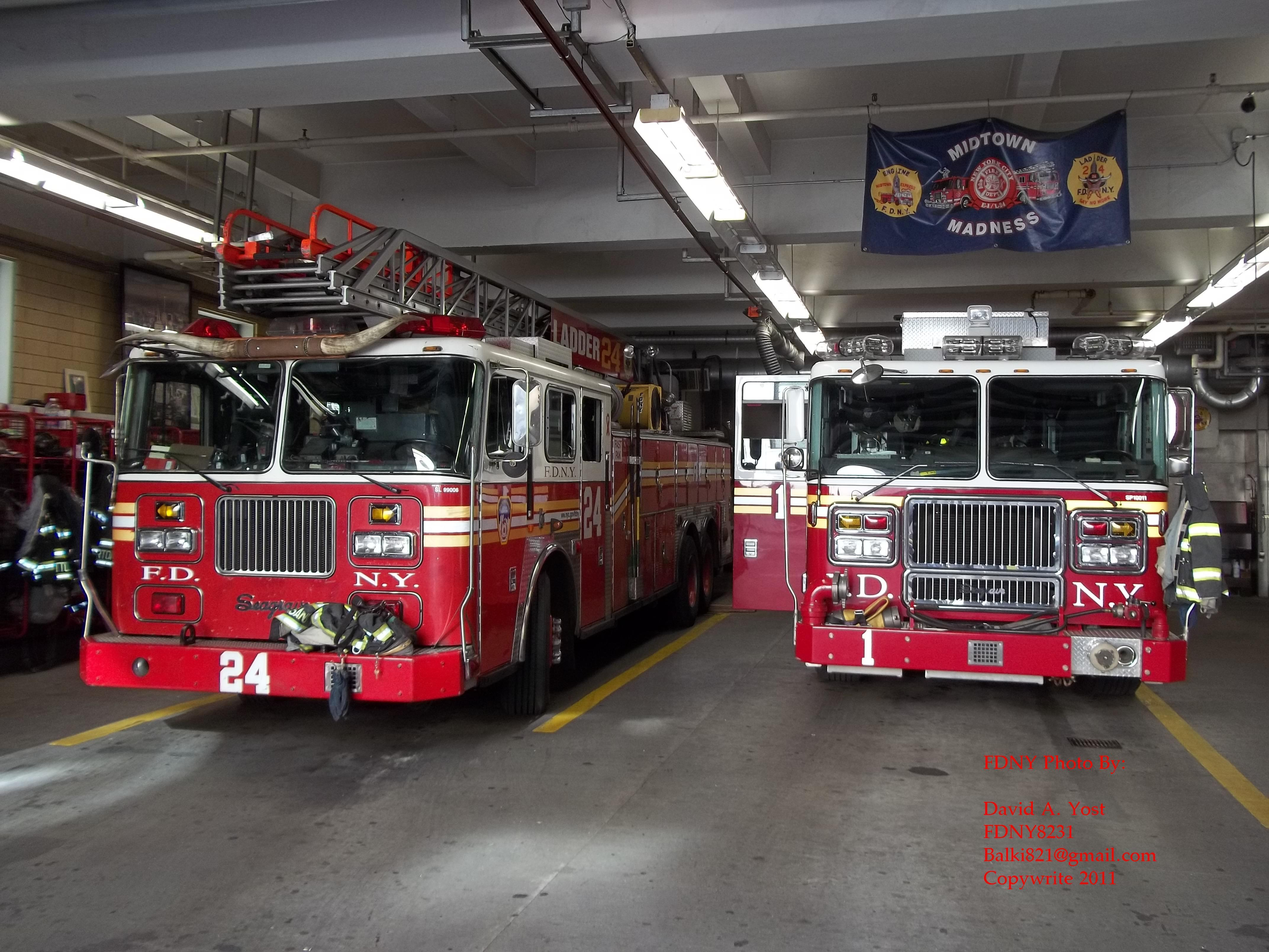Fire-engine: (79, 204, 674, 723), (781, 358, 1191, 691)
